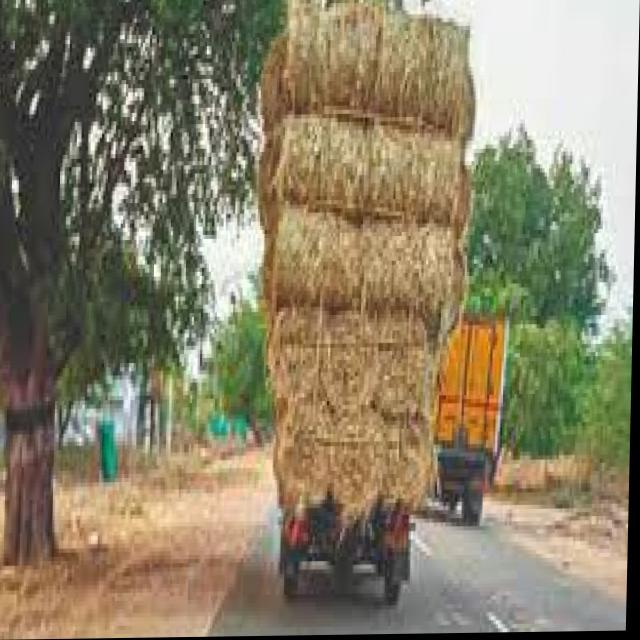uncovered: (252, 0, 475, 604)
